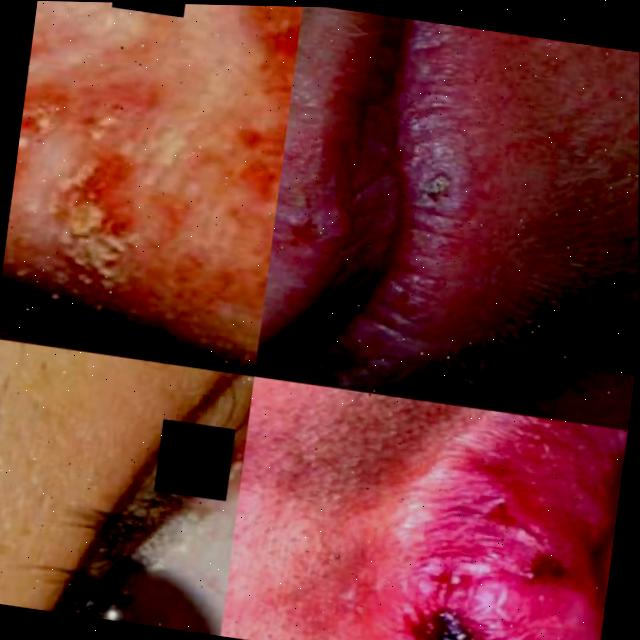lupus-detected: (341, 391, 627, 640), (0, 50, 185, 341), (167, 4, 302, 328), (369, 123, 511, 284), (263, 151, 377, 322), (325, 332, 411, 397), (30, 1, 103, 68)
